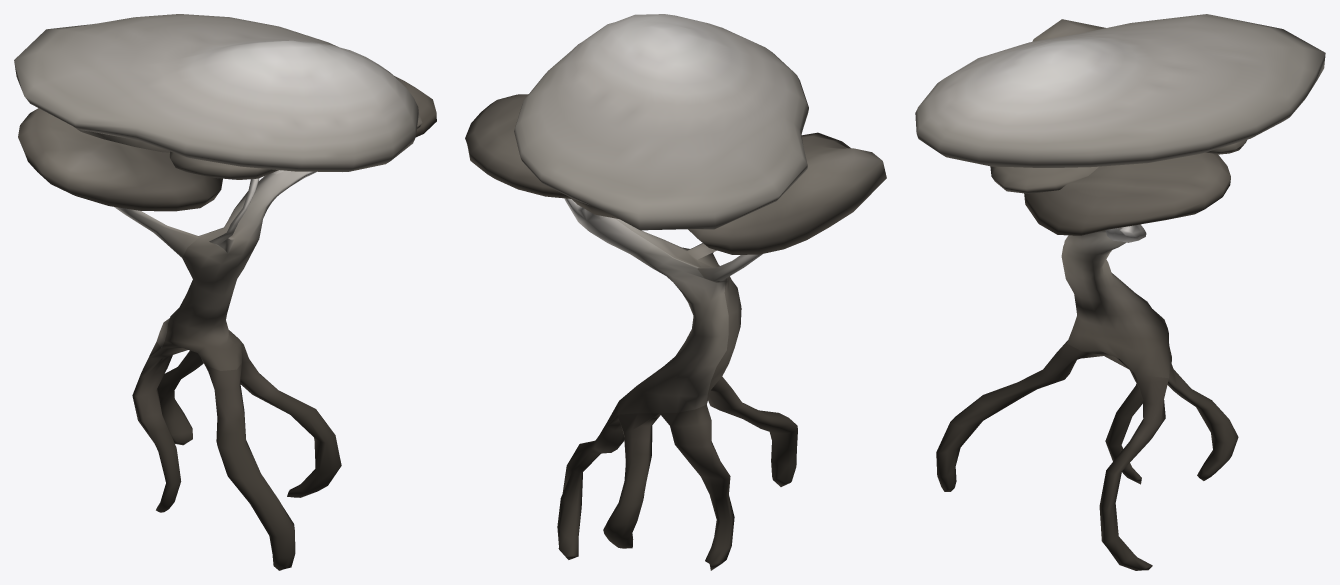
File: Tree3.fbx
3 views of the same model, side by side, from view 1: azimuth 30°, elevation 25°; view 2: azimuth 150°, elevation 25°; view 3: azimuth 270°, elevation 25° (orthographic). The views are drawn at different scales.
Visible parts, largest first — view 1: Tree3; view 2: Tree3; view 3: Tree3.
Part boxes in pixels (box(x1,y1,x2,y2)): Tree3: box(14, 14, 436, 570); Tree3: box(465, 14, 886, 570); Tree3: box(915, 14, 1325, 570).
Size of the model in its own units: 1024 by 1282 by 964.
Materials: 1 (1 with a texture image).
